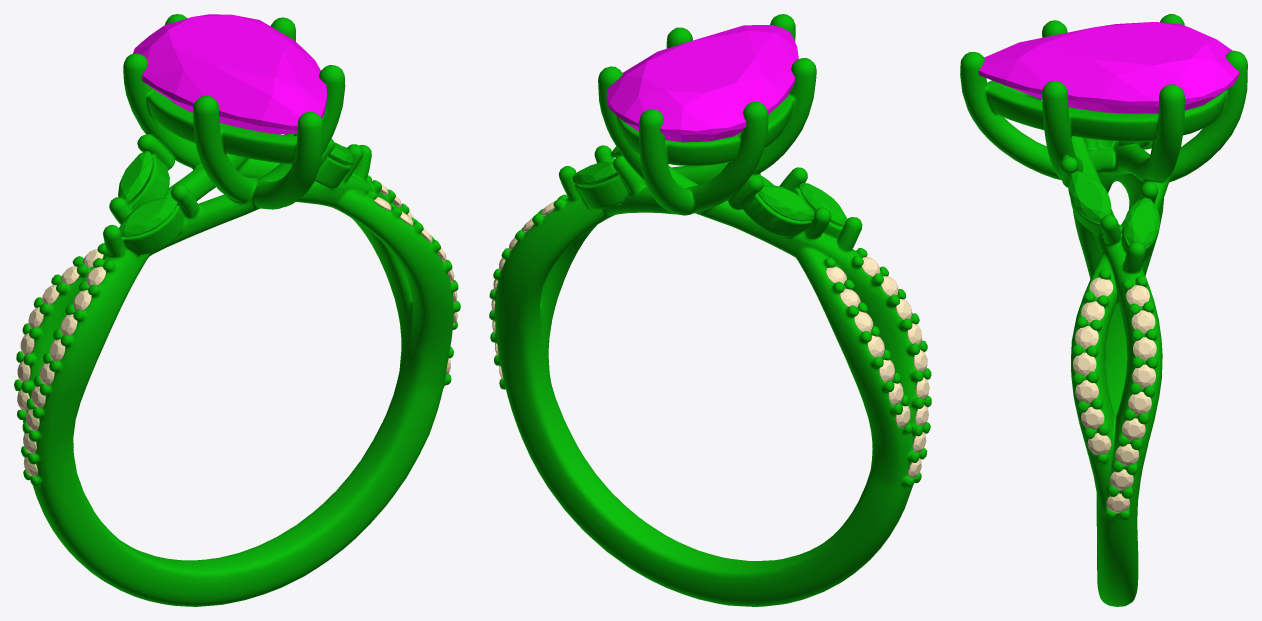
The model's file is BE1LCE1548_PE_200ct_RENDER.glb.
The picture shows the model from 3 angles, left to right: view 1: azimuth 30°, elevation 25°; view 2: azimuth 150°, elevation 25°; view 3: azimuth 270°, elevation 25°; orthographic projection.
Visible parts, largest first — view 1: Metal 01, CS_Diamond_Pear, Emerald_Marquise_side, Emerald_Marquise_side.003; view 2: Metal 01, CS_Diamond_Pear, Emerald_Marquise_side.003, Emerald_Marquise_side, Emerald_Marquise_side.001; view 3: Metal 01, CS_Diamond_Pear, Emerald_Marquise_side.002, Emerald_Marquise_side.001, Diamond_Round_Gem_SH.029, Diamond_Round_Gem_SH.027, Diamond_Round_Gem_SH.026, Diamond_Round_Gem_SH.028, Diamond_Round_Gem_SH.022, Diamond_Round_Gem_SH.021, Diamond_Round_Gem_SH.030, Diamond_Round_Gem_SH.020 (+4 smaller).
Boxes of the visible parts, bbox=[...] form: Metal 01: bbox=[14, 14, 460, 606]; CS_Diamond_Pear: bbox=[133, 14, 326, 134]; Emerald_Marquise_side: bbox=[119, 197, 177, 236]; Emerald_Marquise_side.003: bbox=[118, 151, 152, 203]; Metal 01: bbox=[489, 14, 931, 606]; CS_Diamond_Pear: bbox=[606, 25, 798, 166]; Emerald_Marquise_side.003: bbox=[758, 185, 814, 221]; Emerald_Marquise_side: bbox=[799, 183, 847, 226]; Emerald_Marquise_side.001: bbox=[572, 161, 618, 185]; Metal 01: bbox=[960, 14, 1247, 606]; CS_Diamond_Pear: bbox=[978, 22, 1239, 113]; Emerald_Marquise_side.002: bbox=[1068, 171, 1111, 222]; Emerald_Marquise_side.001: bbox=[1124, 197, 1159, 247]; Diamond_Round_Gem_SH.029: bbox=[1073, 352, 1096, 376]; Diamond_Round_Gem_SH.027: bbox=[1132, 364, 1155, 388]; Diamond_Round_Gem_SH.026: bbox=[1075, 380, 1098, 403]; Diamond_Round_Gem_SH.028: bbox=[1133, 337, 1156, 360]; Diamond_Round_Gem_SH.022: bbox=[1131, 310, 1155, 333]; Diamond_Round_Gem_SH.021: bbox=[1128, 391, 1151, 414]; Diamond_Round_Gem_SH.030: bbox=[1075, 326, 1098, 348]; Diamond_Round_Gem_SH.020: bbox=[1122, 418, 1145, 440].
Size of the model in its own units: 20.63 by 25.18 by 12.14.
